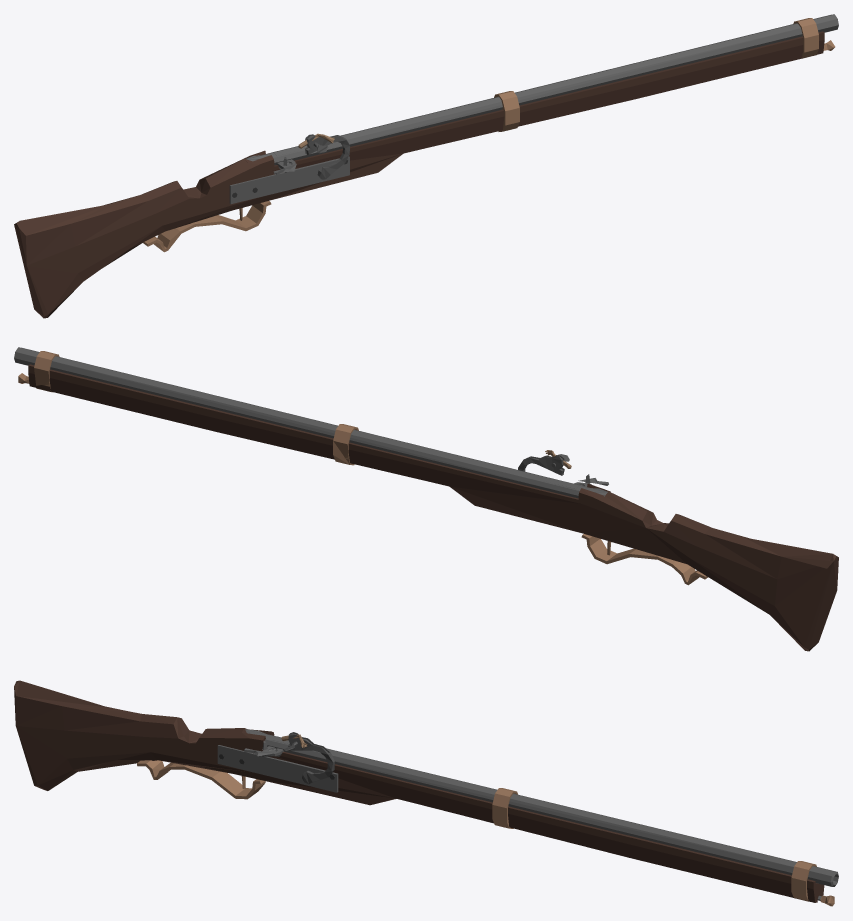
Rendered from Musket_LOD2.fbx.
The picture shows the model from 3 angles, top to bottom: view 1: azimuth 30°, elevation 25°; view 2: azimuth 150°, elevation 25°; view 3: azimuth 330°, elevation 25°; orthographic projection.
Parts seen in each view (by area): view 1: CP_Renaissance_Matchlock_Base, CP_Renaissance_Matchlock_Hammer; view 2: CP_Renaissance_Matchlock_Base, CP_Renaissance_Matchlock_Hammer; view 3: CP_Renaissance_Matchlock_Base, CP_Renaissance_Matchlock_Hammer.
Part boxes in pixels (x1=…): CP_Renaissance_Matchlock_Base: x1=14, y1=14, x2=838, y2=318; CP_Renaissance_Matchlock_Hammer: x1=298, y1=133, x2=349, y2=179; CP_Renaissance_Matchlock_Base: x1=14, y1=347, x2=838, y2=651; CP_Renaissance_Matchlock_Hammer: x1=518, y1=450, x2=571, y2=475; CP_Renaissance_Matchlock_Base: x1=14, y1=680, x2=838, y2=906; CP_Renaissance_Matchlock_Hammer: x1=281, y1=732, x2=334, y2=784.
Bounding box in the file's own units: 770 × 114 × 43.41.
